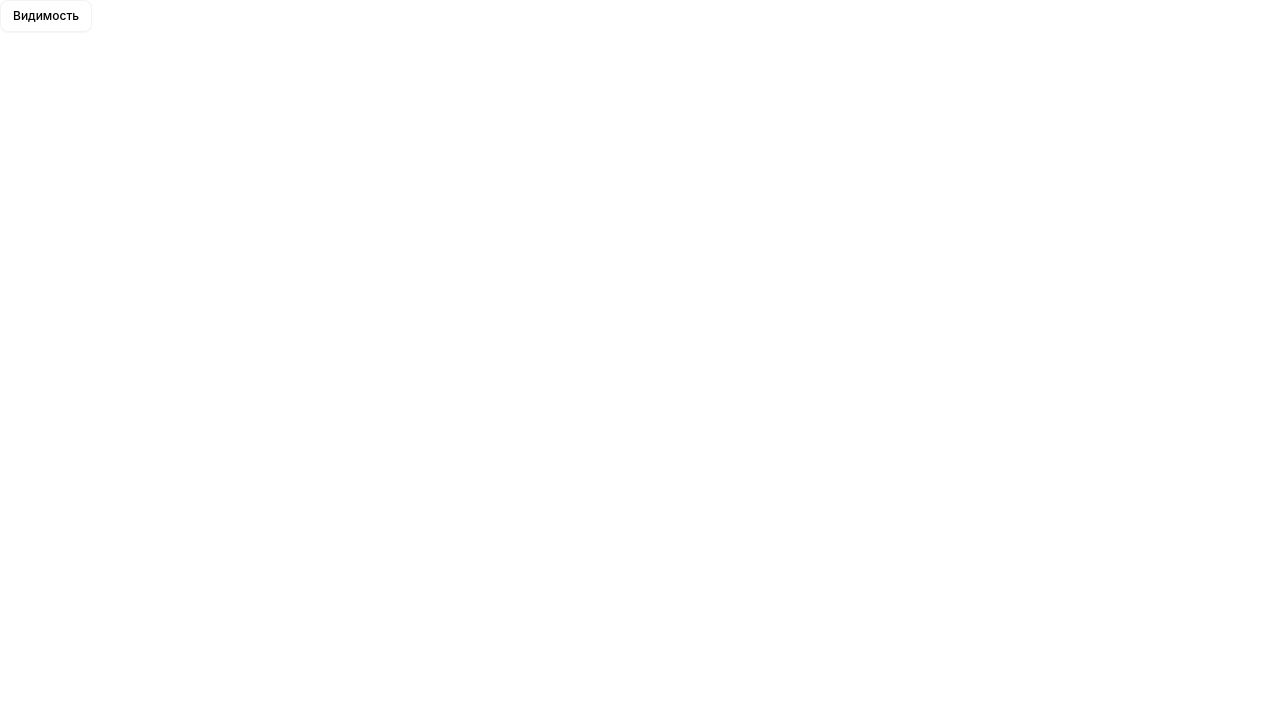
Test: SkillVisibilityDialog › shows usable dialog action labels in ru without translation fallback
Step 1. Click the button "Видимость" → click(46, 16), box [0,0,92,32]
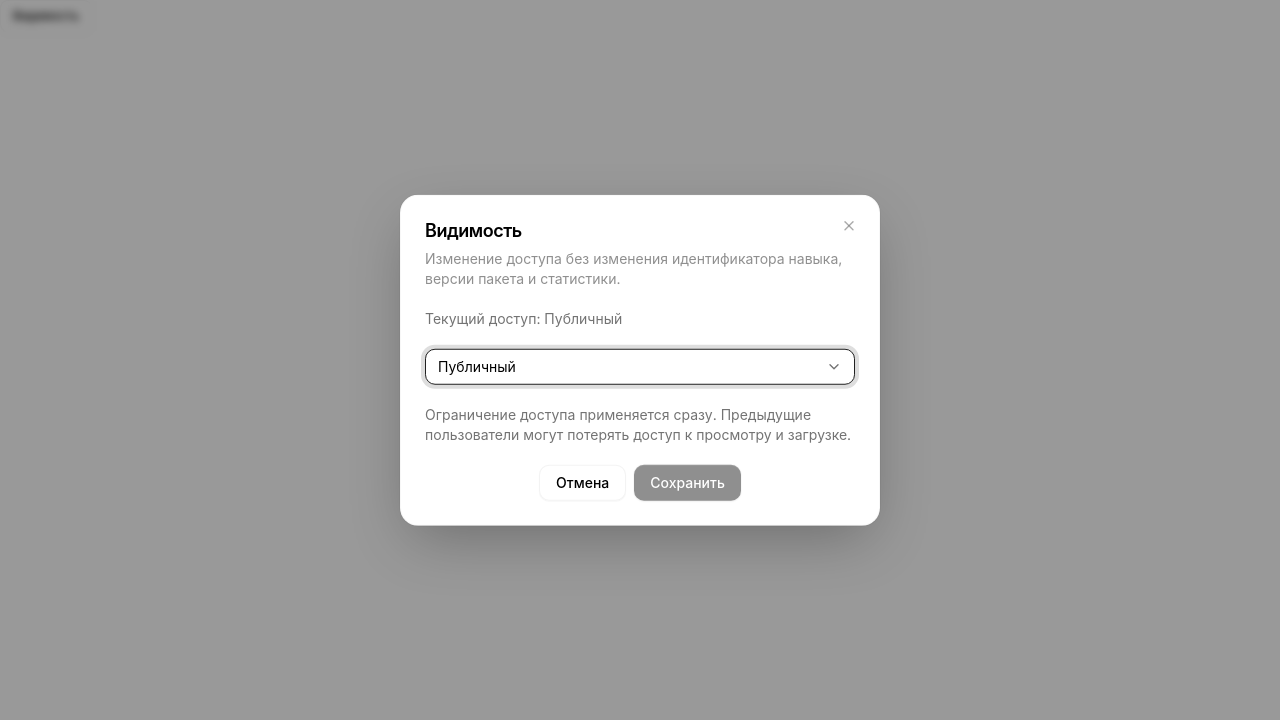
Check: the button "Отмена" is shown
Check: the button "Сохранить" is shown, box [634,464,741,500]
Step 2. Click the button "Отмена" → click(583, 482), box [539,464,626,500]
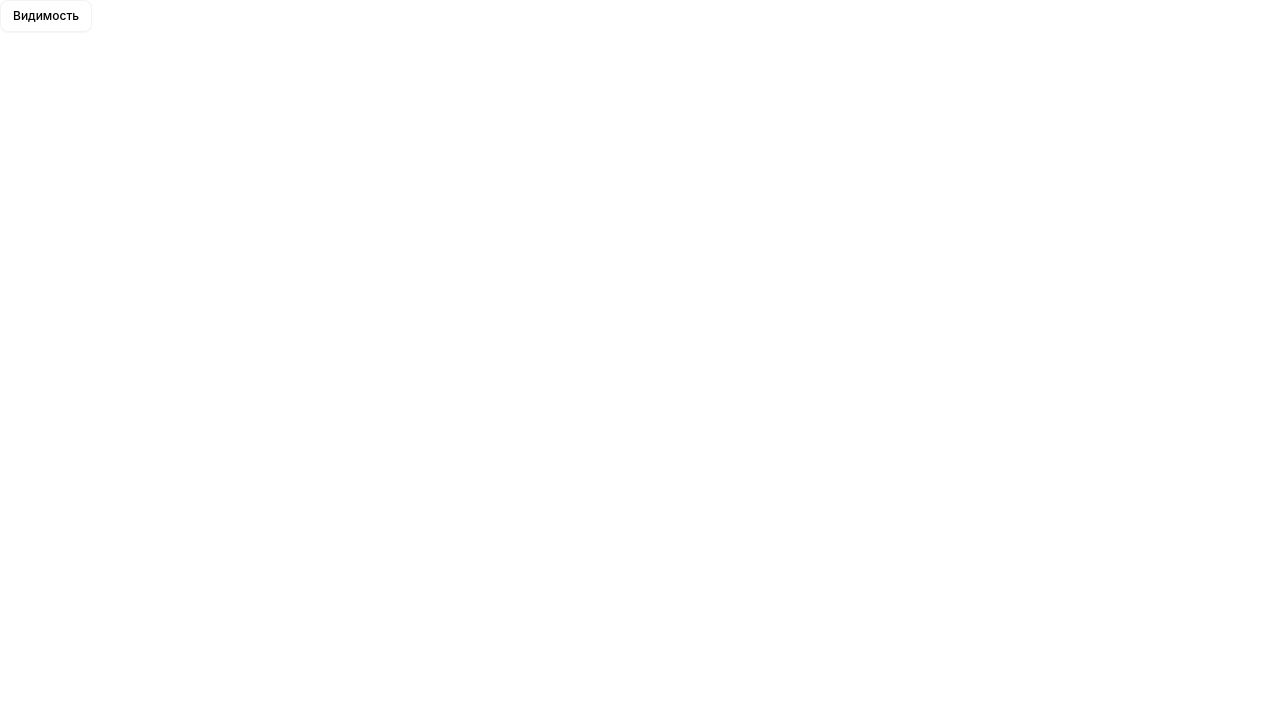
Check: the dialog is gone
